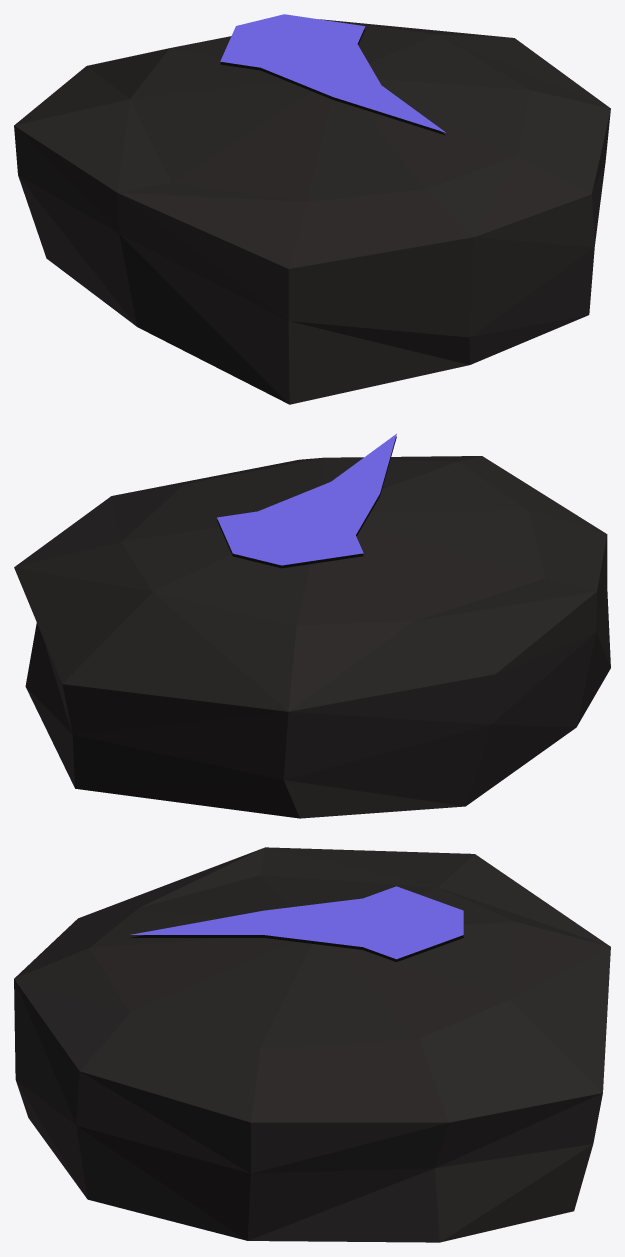
The model's file is obj_altar_4_0.obj.
3 views of the same model, one above another, from view 1: azimuth 30°, elevation 25°; view 2: azimuth 150°, elevation 25°; view 3: azimuth 270°, elevation 25° (orthographic). The views are drawn at different scales.
Size of the model in its own units: 2.84 by 1.21 by 2.91.
